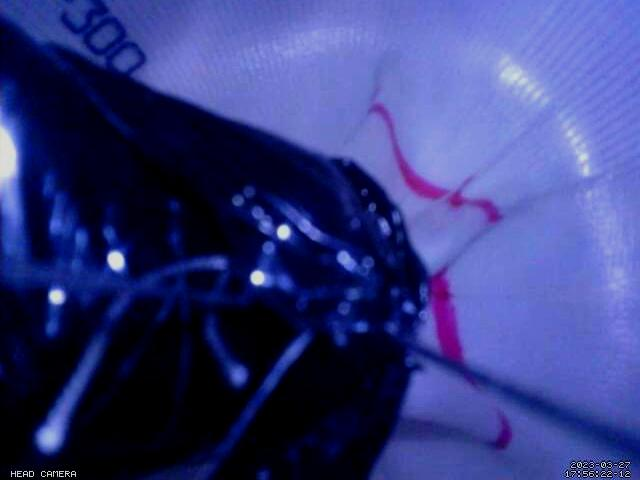red-circle: (369, 103, 513, 451)
